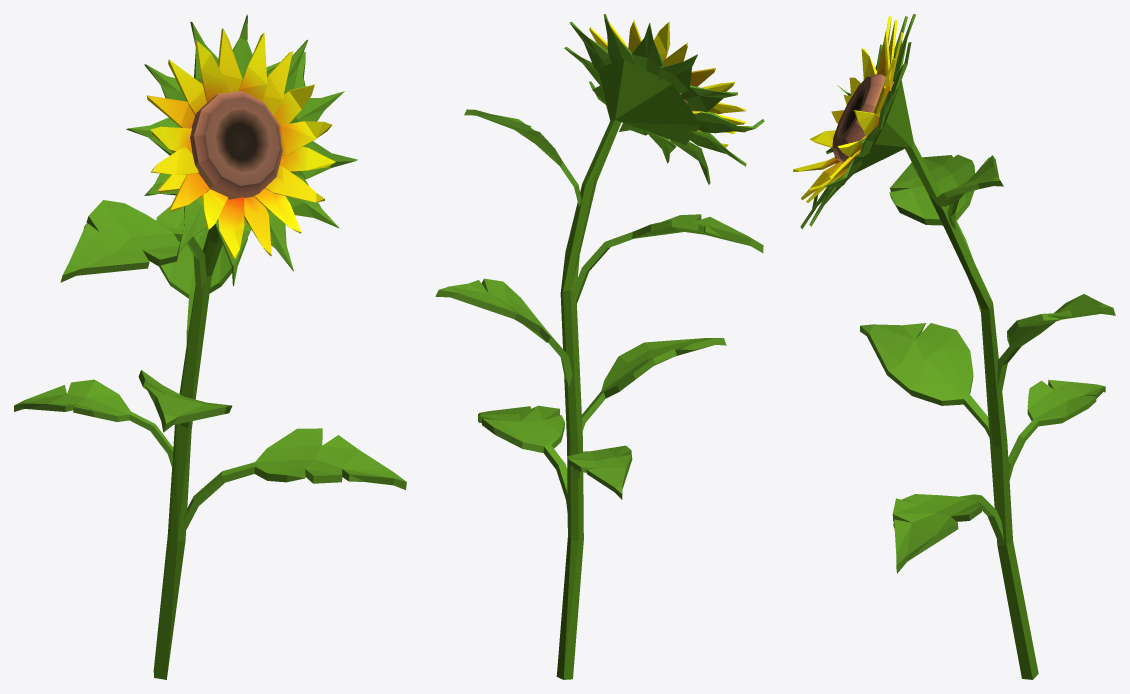
The model's file is Sunflower.glb.
3 views of the same model, side by side, from view 1: azimuth 30°, elevation 25°; view 2: azimuth 150°, elevation 25°; view 3: azimuth 270°, elevation 25° (orthographic). The views are drawn at different scales.
Visible parts, largest first — view 1: Sunflower; view 2: Sunflower; view 3: Sunflower.
Part boxes in pixels (x1,y1,x2,y2): Sunflower: (14, 14, 406, 679); Sunflower: (435, 14, 764, 679); Sunflower: (793, 14, 1115, 679).
Size of the model in its own units: 4.43 by 8.95 by 4.03.
1 material, 1 textured.
